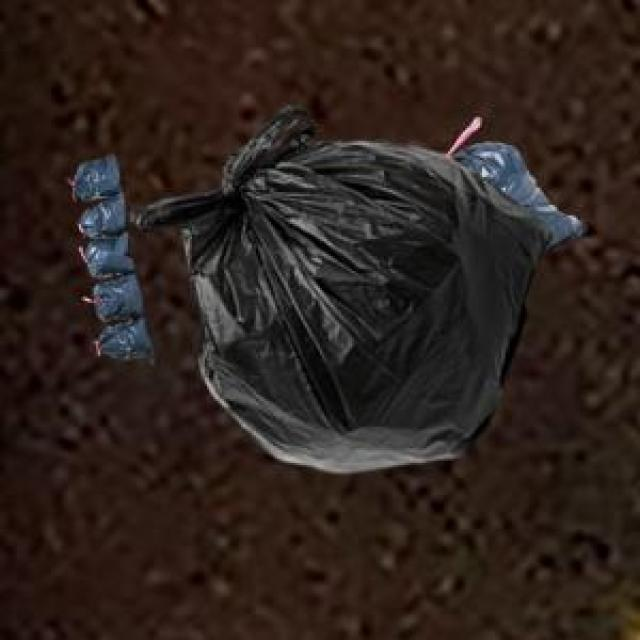waste: (71, 105, 584, 472)
